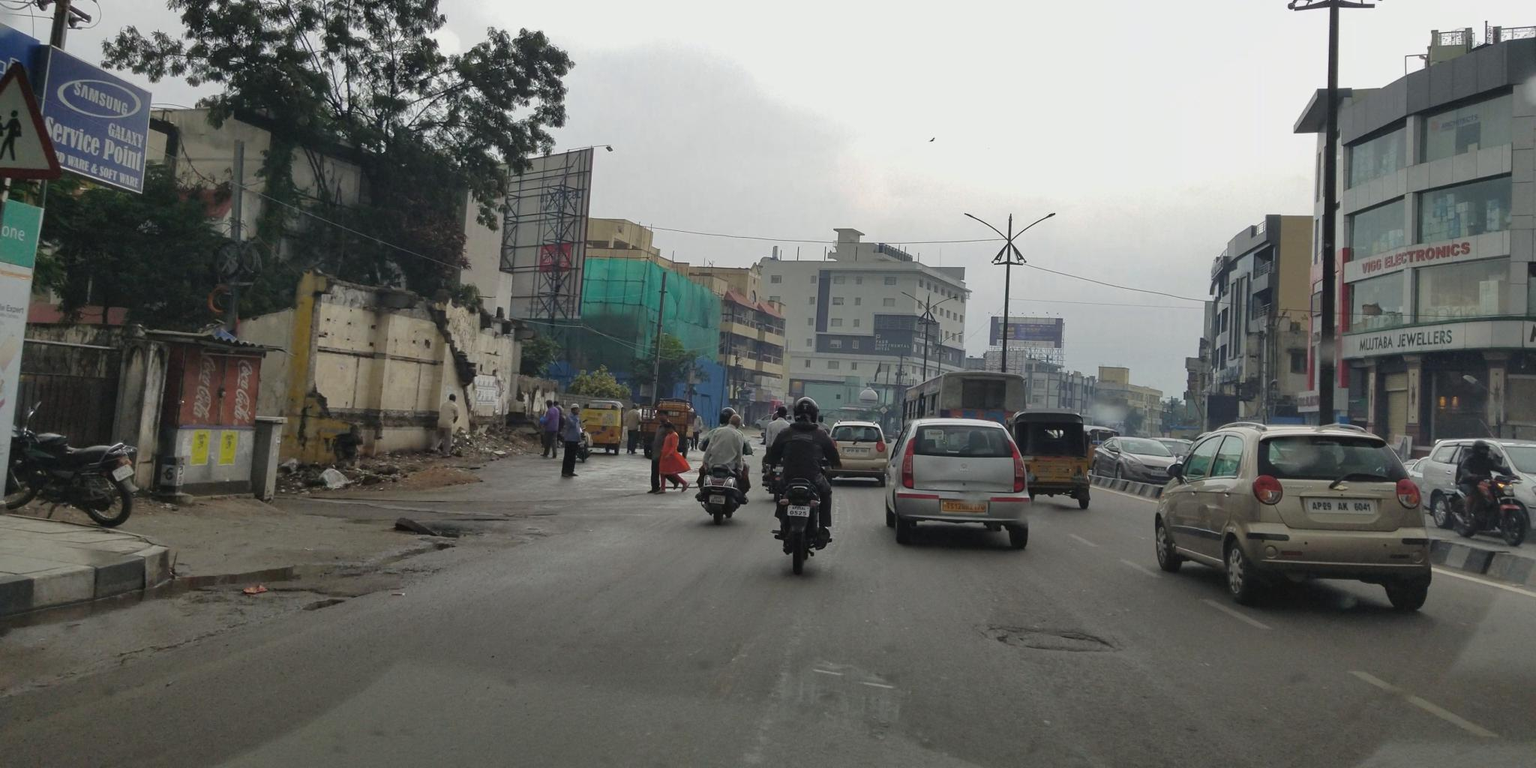streetlight: (1006, 199, 1070, 265), (949, 196, 1012, 262)
